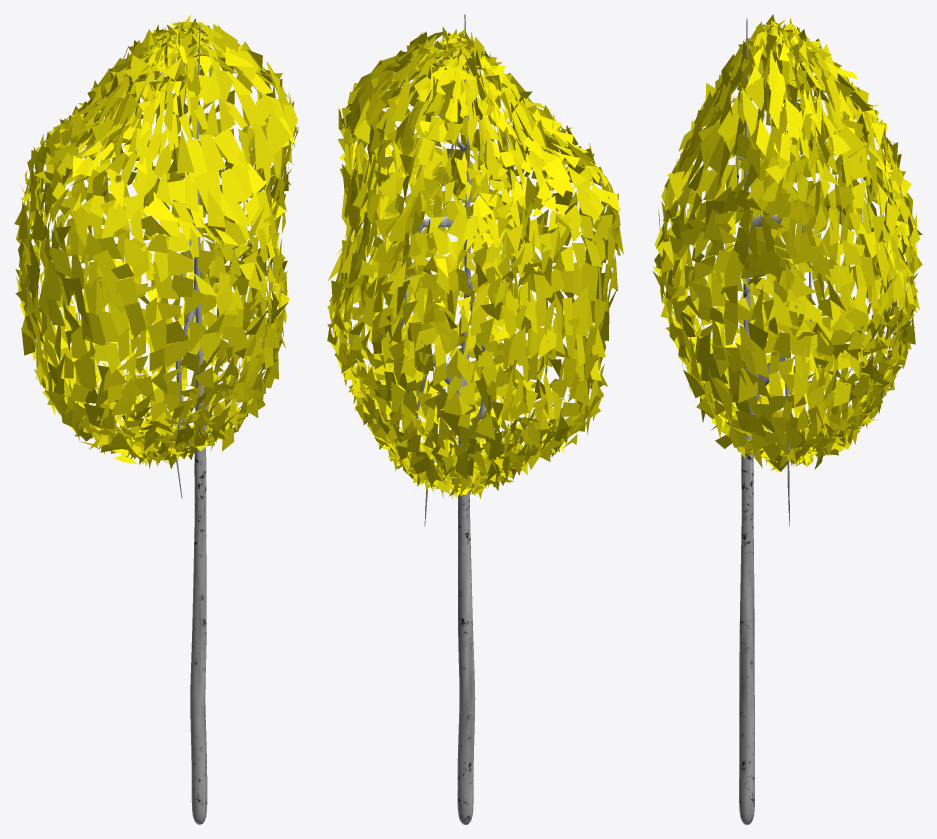
File: Leaves45.002.fbx
The picture shows the model from 3 angles, left to right: view 1: azimuth 30°, elevation 25°; view 2: azimuth 150°, elevation 25°; view 3: azimuth 270°, elevation 25°; orthographic projection.
Visible parts, largest first — view 1: Leaves45.002; view 2: Leaves45.002; view 3: Leaves45.002.
Part boxes in pixels (left/top/right/bottom): Leaves45.002: left=14, top=14, right=298, bottom=824; Leaves45.002: left=327, top=14, right=623, bottom=824; Leaves45.002: left=652, top=14, right=922, bottom=824.
Bounding box in the file's own units: 873 × 2574 × 783.
2 materials, 1 textured.
